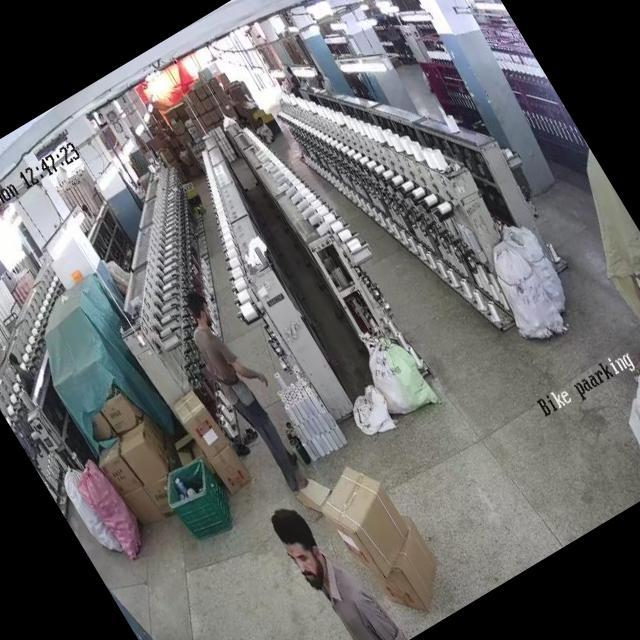person: (173, 294, 314, 493), (264, 493, 407, 640)
